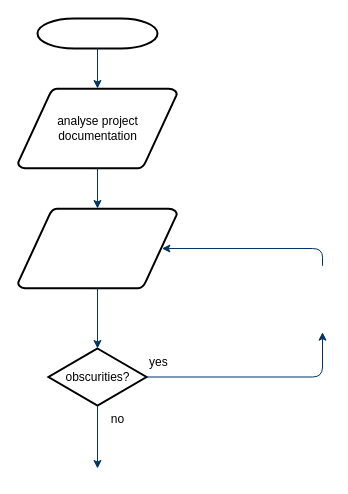
The diagram is 348 pixels wide and 494 high, and some of its shapes have lost their labels. Here are the shapes that lost their labels. From the top down, the centre of each, then its label:
(x=97, y=33): start
(x=97, y=248): check for obscurities
